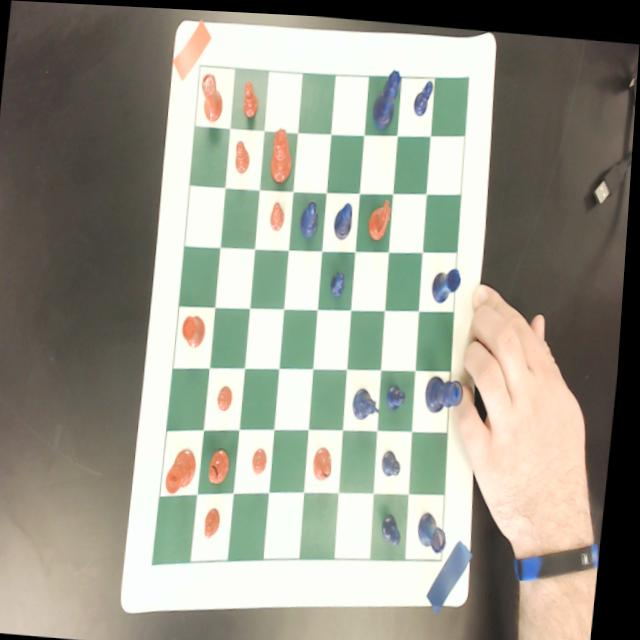B: (300, 195, 323, 235), (335, 197, 356, 237)
K: (429, 368, 469, 409)
N: (357, 381, 387, 417)
P: (386, 506, 409, 543), (414, 73, 435, 113), (386, 443, 409, 473), (390, 377, 412, 407), (332, 265, 350, 295)
Q: (372, 62, 403, 127)
R: (423, 505, 455, 548), (434, 261, 465, 298)
b: (213, 446, 236, 485), (317, 441, 339, 477)
k: (170, 443, 203, 494)
n: (368, 193, 395, 239)
p: (242, 76, 262, 116), (209, 502, 228, 537), (235, 136, 253, 172), (256, 442, 274, 472), (221, 380, 238, 410), (271, 198, 288, 228)
q: (270, 123, 297, 180)
r: (198, 68, 228, 120), (183, 312, 212, 348)
